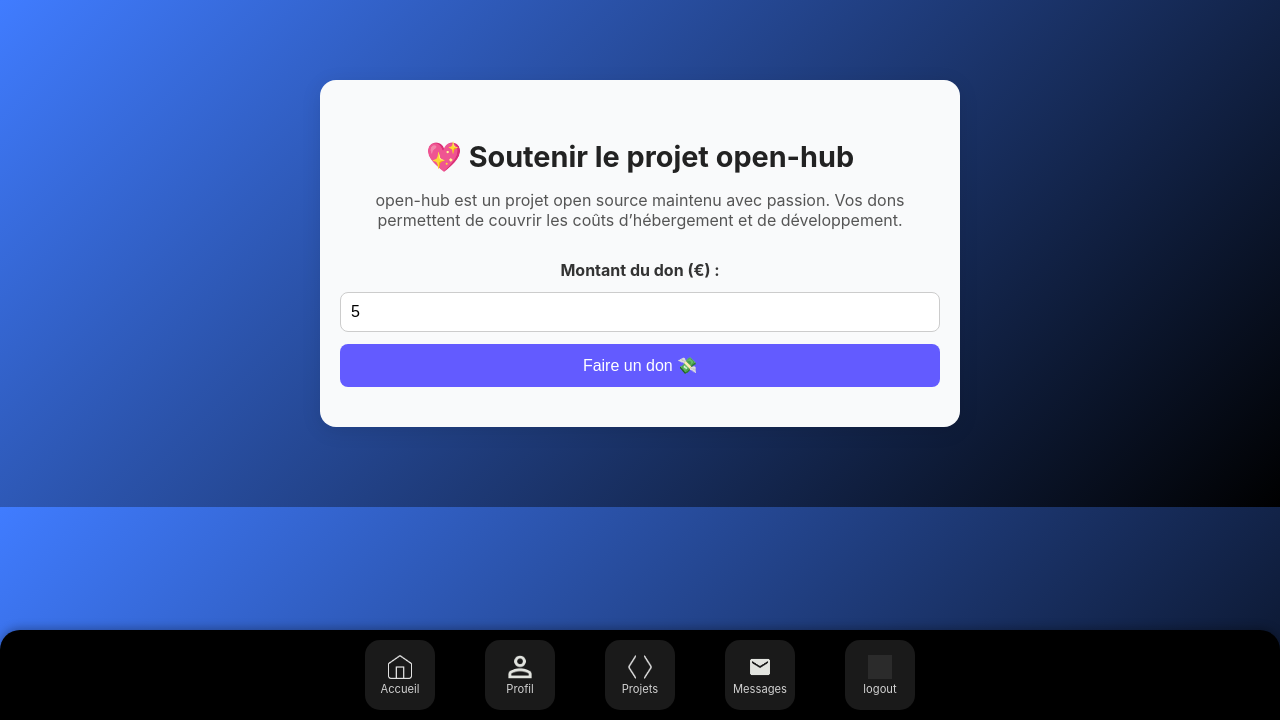
Test case: DonatePage Component › Modification du montant › permet de modifier le montant du don
Replace the text in the number field with "10". click: (640, 312)
box: [340,292,940,332]
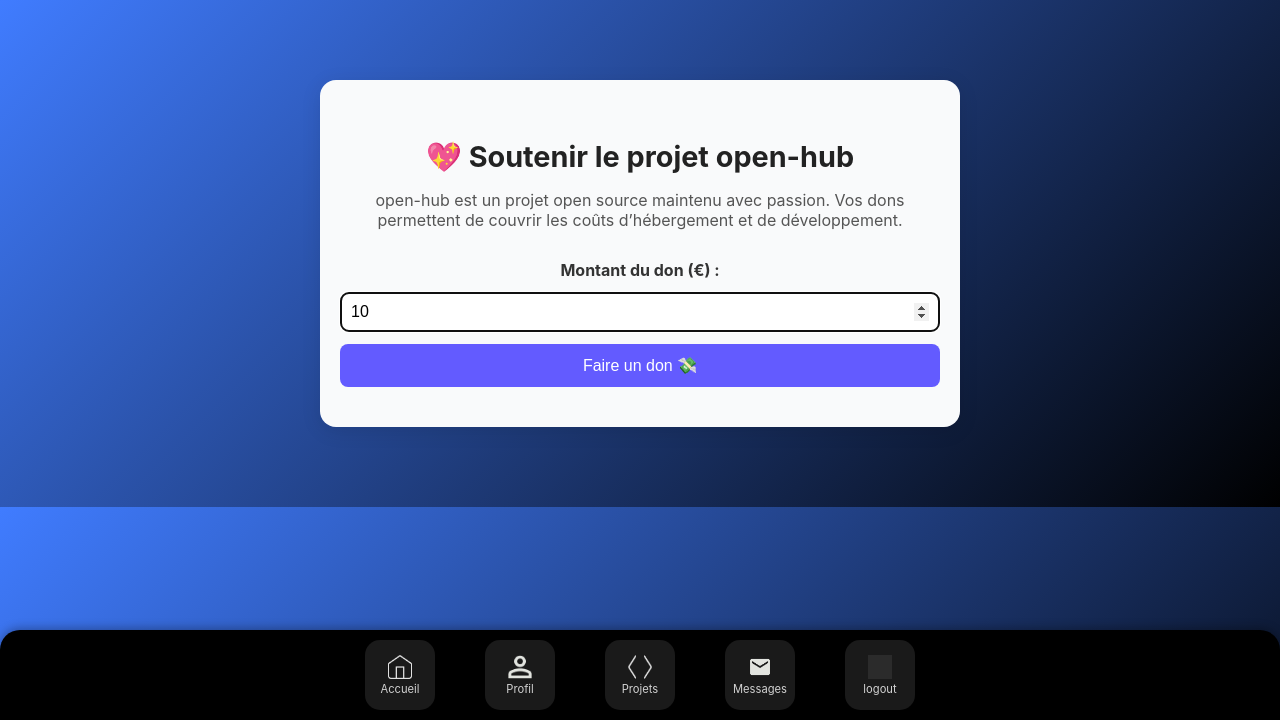
Expected: the number field holds "10", [340,292,940,332]
